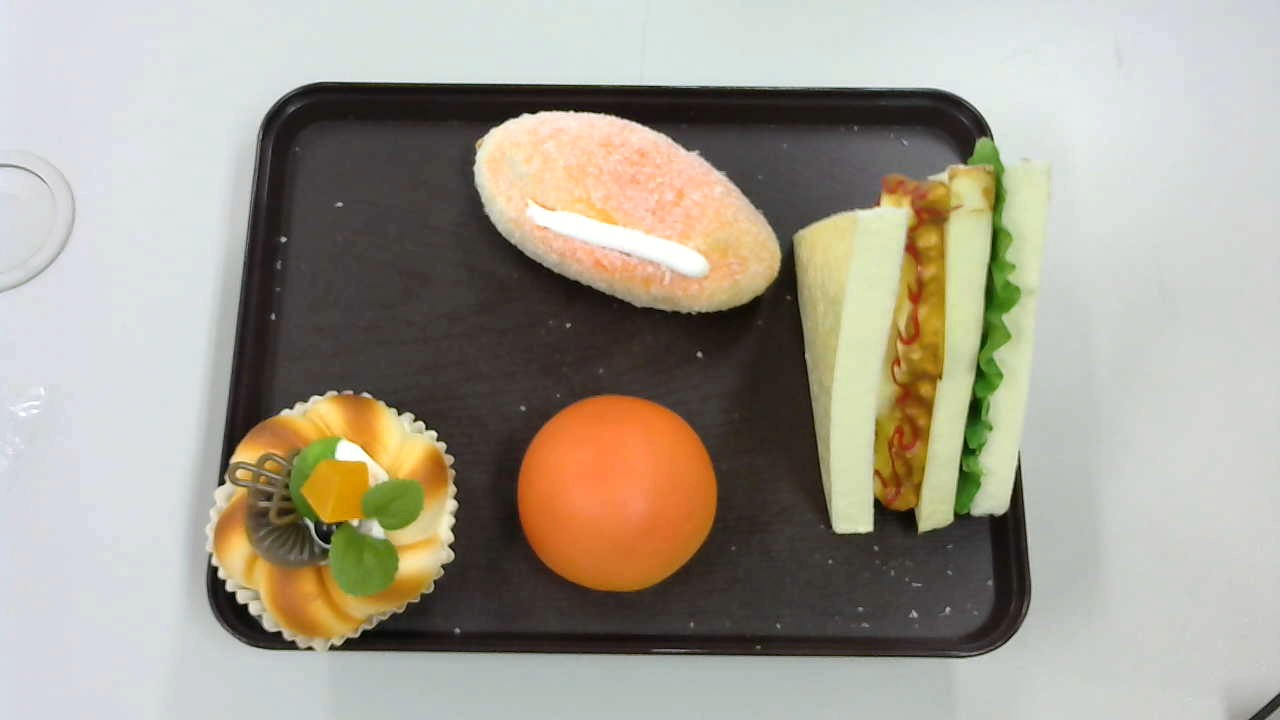bun: (515, 394, 718, 591)
coconut: (474, 110, 783, 313)
fruit tart: (206, 388, 457, 651)
sandwich: (792, 138, 1050, 538)
